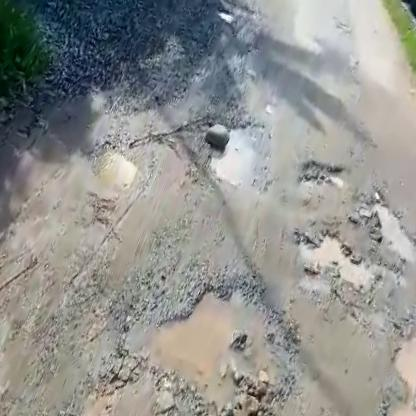pothole: (90, 242, 323, 416), (282, 203, 398, 301), (203, 109, 284, 197), (82, 137, 151, 202), (361, 192, 416, 261), (384, 318, 416, 403)
